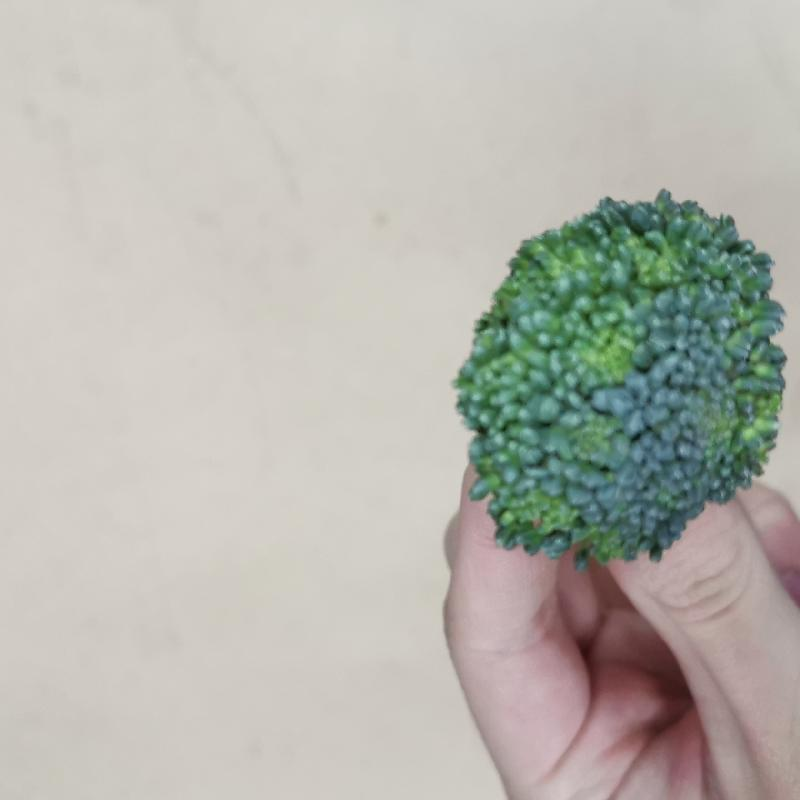broccoli: (445, 193, 791, 567)
